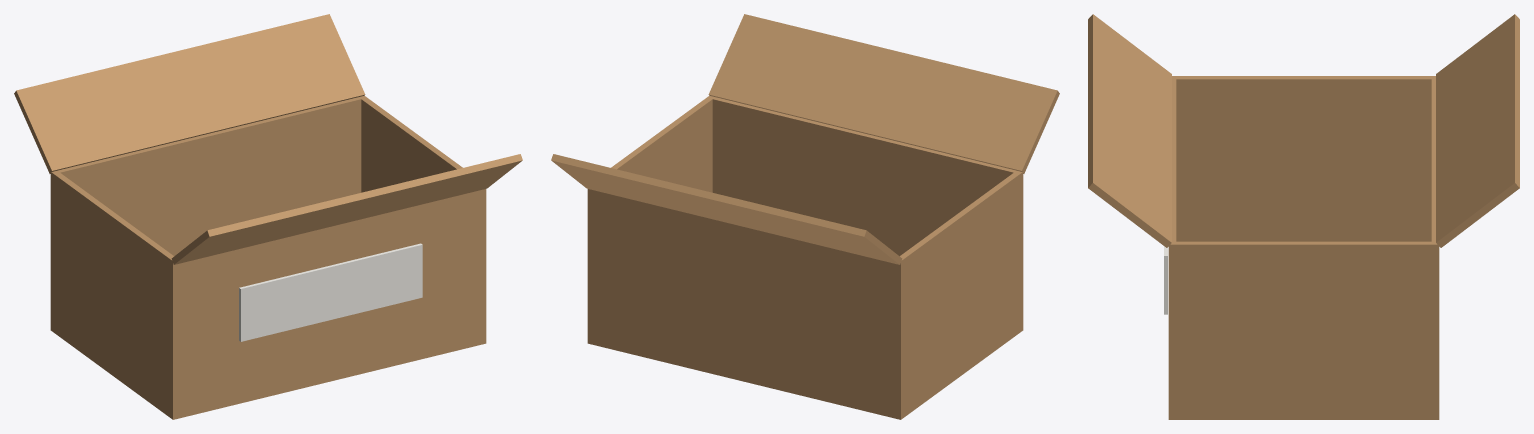
Rendered from LostFoundBox.fbx.
3 renders of one model, left to right at view 1: azimuth 30°, elevation 25°; view 2: azimuth 150°, elevation 25°; view 3: azimuth 270°, elevation 25°, orthographic. The views are drawn at different scales.
Visible parts, largest first — view 1: WallY, FlapY.001, WallY.001, WallX, Label.001, FlapY, WallX.001, Bottom; view 2: WallY.001, FlapY, WallY, WallX, FlapY.001, WallX.001, Bottom; view 3: WallX.001, WallX, FlapY, FlapY.001, WallY.001, Bottom, WallY.
Part boxes in pixels (x1,y1,x2,y2): WallY: (169,189,486,418); FlapY.001: (14,14,365,173); WallY.001: (50,95,366,332); WallX: (52,171,178,419); Label.001: (239,243,422,341); FlapY: (171,154,522,264); WallX.001: (359,96,481,341); Bottom: (50,324,486,419); WallY.001: (587,189,904,419); FlapY: (708,14,1059,173); WallY: (707,95,1023,329); WallX: (895,171,1022,419); FlapY.001: (551,154,902,264); WallX.001: (587,96,714,344); Bottom: (587,324,1023,419); WallX.001: (1168,241,1439,419); WallX: (1172,76,1435,241); FlapY: (1088,14,1171,247); FlapY.001: (1436,14,1519,247); WallY.001: (1431,79,1439,419); Bottom: (1168,413,1439,419); WallY: (1168,79,1176,419).
Bounding box in the file's own units: 0.62 × 0.406 × 0.6703.
